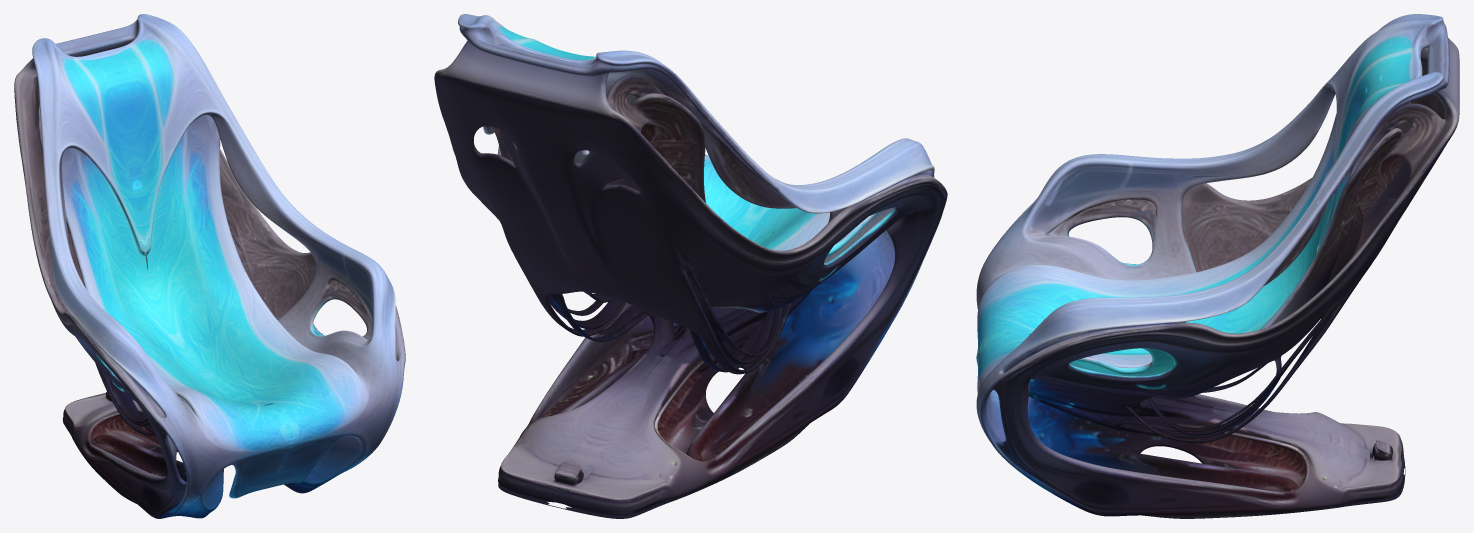
The model's file is nebula_cyber_lounge_chair.glb.
The picture shows the model from 3 angles, left to right: view 1: azimuth 30°, elevation 25°; view 2: azimuth 150°, elevation 25°; view 3: azimuth 270°, elevation 25°; orthographic projection. The views are drawn at different scales.
Parts seen in each view (by area): view 1: Object_6, Object_5, Object_4, Object_7, Object_8; view 2: Object_4, Object_5, Object_6, Object_7, Object_8; view 3: Object_5, Object_7, Object_8, Object_6, Object_4.
Part boxes in pixels (x1,y1,x2,y2): Object_6: (14,14,405,498); Object_5: (16,23,215,452); Object_4: (62,359,326,518); Object_7: (119,38,403,483); Object_8: (14,72,405,493); Object_4: (481,187,947,518); Object_5: (435,25,947,500); Object_6: (434,14,946,279); Object_7: (434,71,760,486); Object_8: (482,75,911,504); Object_5: (978,14,1459,467); Object_7: (978,87,1459,491); Object_8: (976,47,1432,518); Object_6: (978,59,1459,387); Object_4: (976,213,1405,507).
Size of the model in its own units: 3.39 by 4.17 by 4.27.
2 materials, 1 textured.
